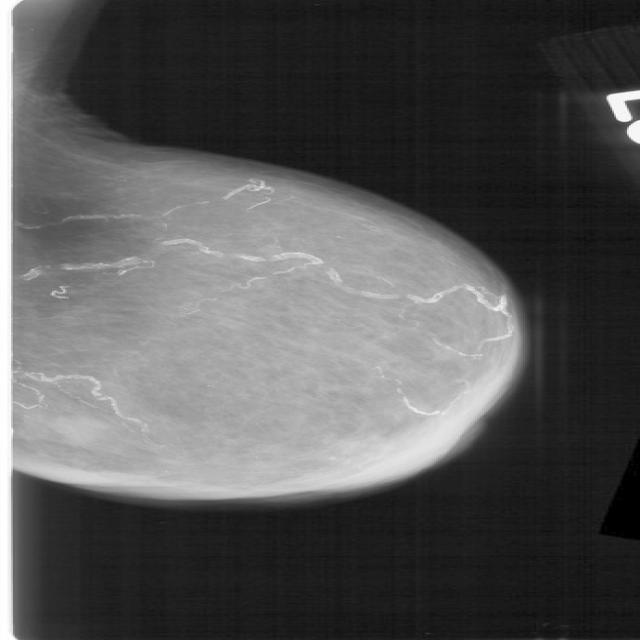tumour: (46, 414, 108, 444)
